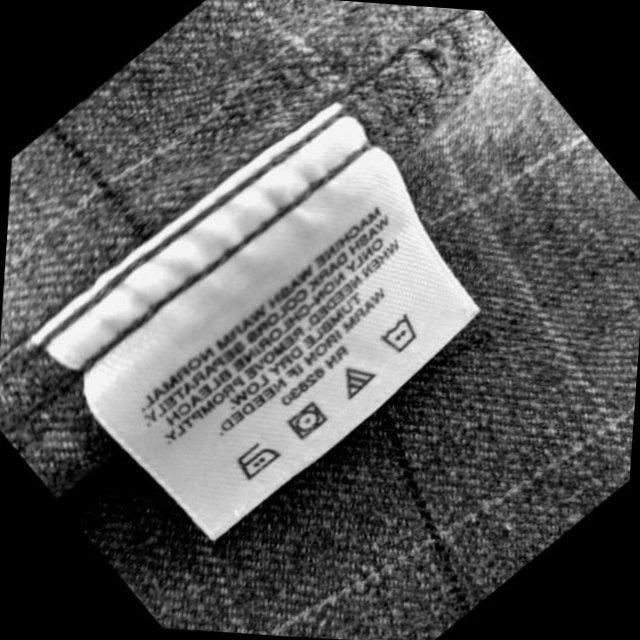40C: (379, 310, 422, 357)
iron_medium: (234, 442, 285, 486)
non_chlorine_bleach: (338, 365, 379, 402)
tumble_dry_low: (288, 400, 331, 442)
